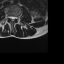CCS_normal: (11, 14, 13, 24)
LFS_normal: (15, 13, 18, 21)
LLS_normal: (13, 14, 15, 22)
RFS_normal: (7, 13, 9, 20)
RLS_normal: (9, 13, 11, 22)
